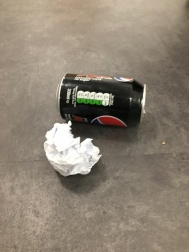can_black: (48, 64, 165, 133)
paper_white: (29, 119, 118, 181)
